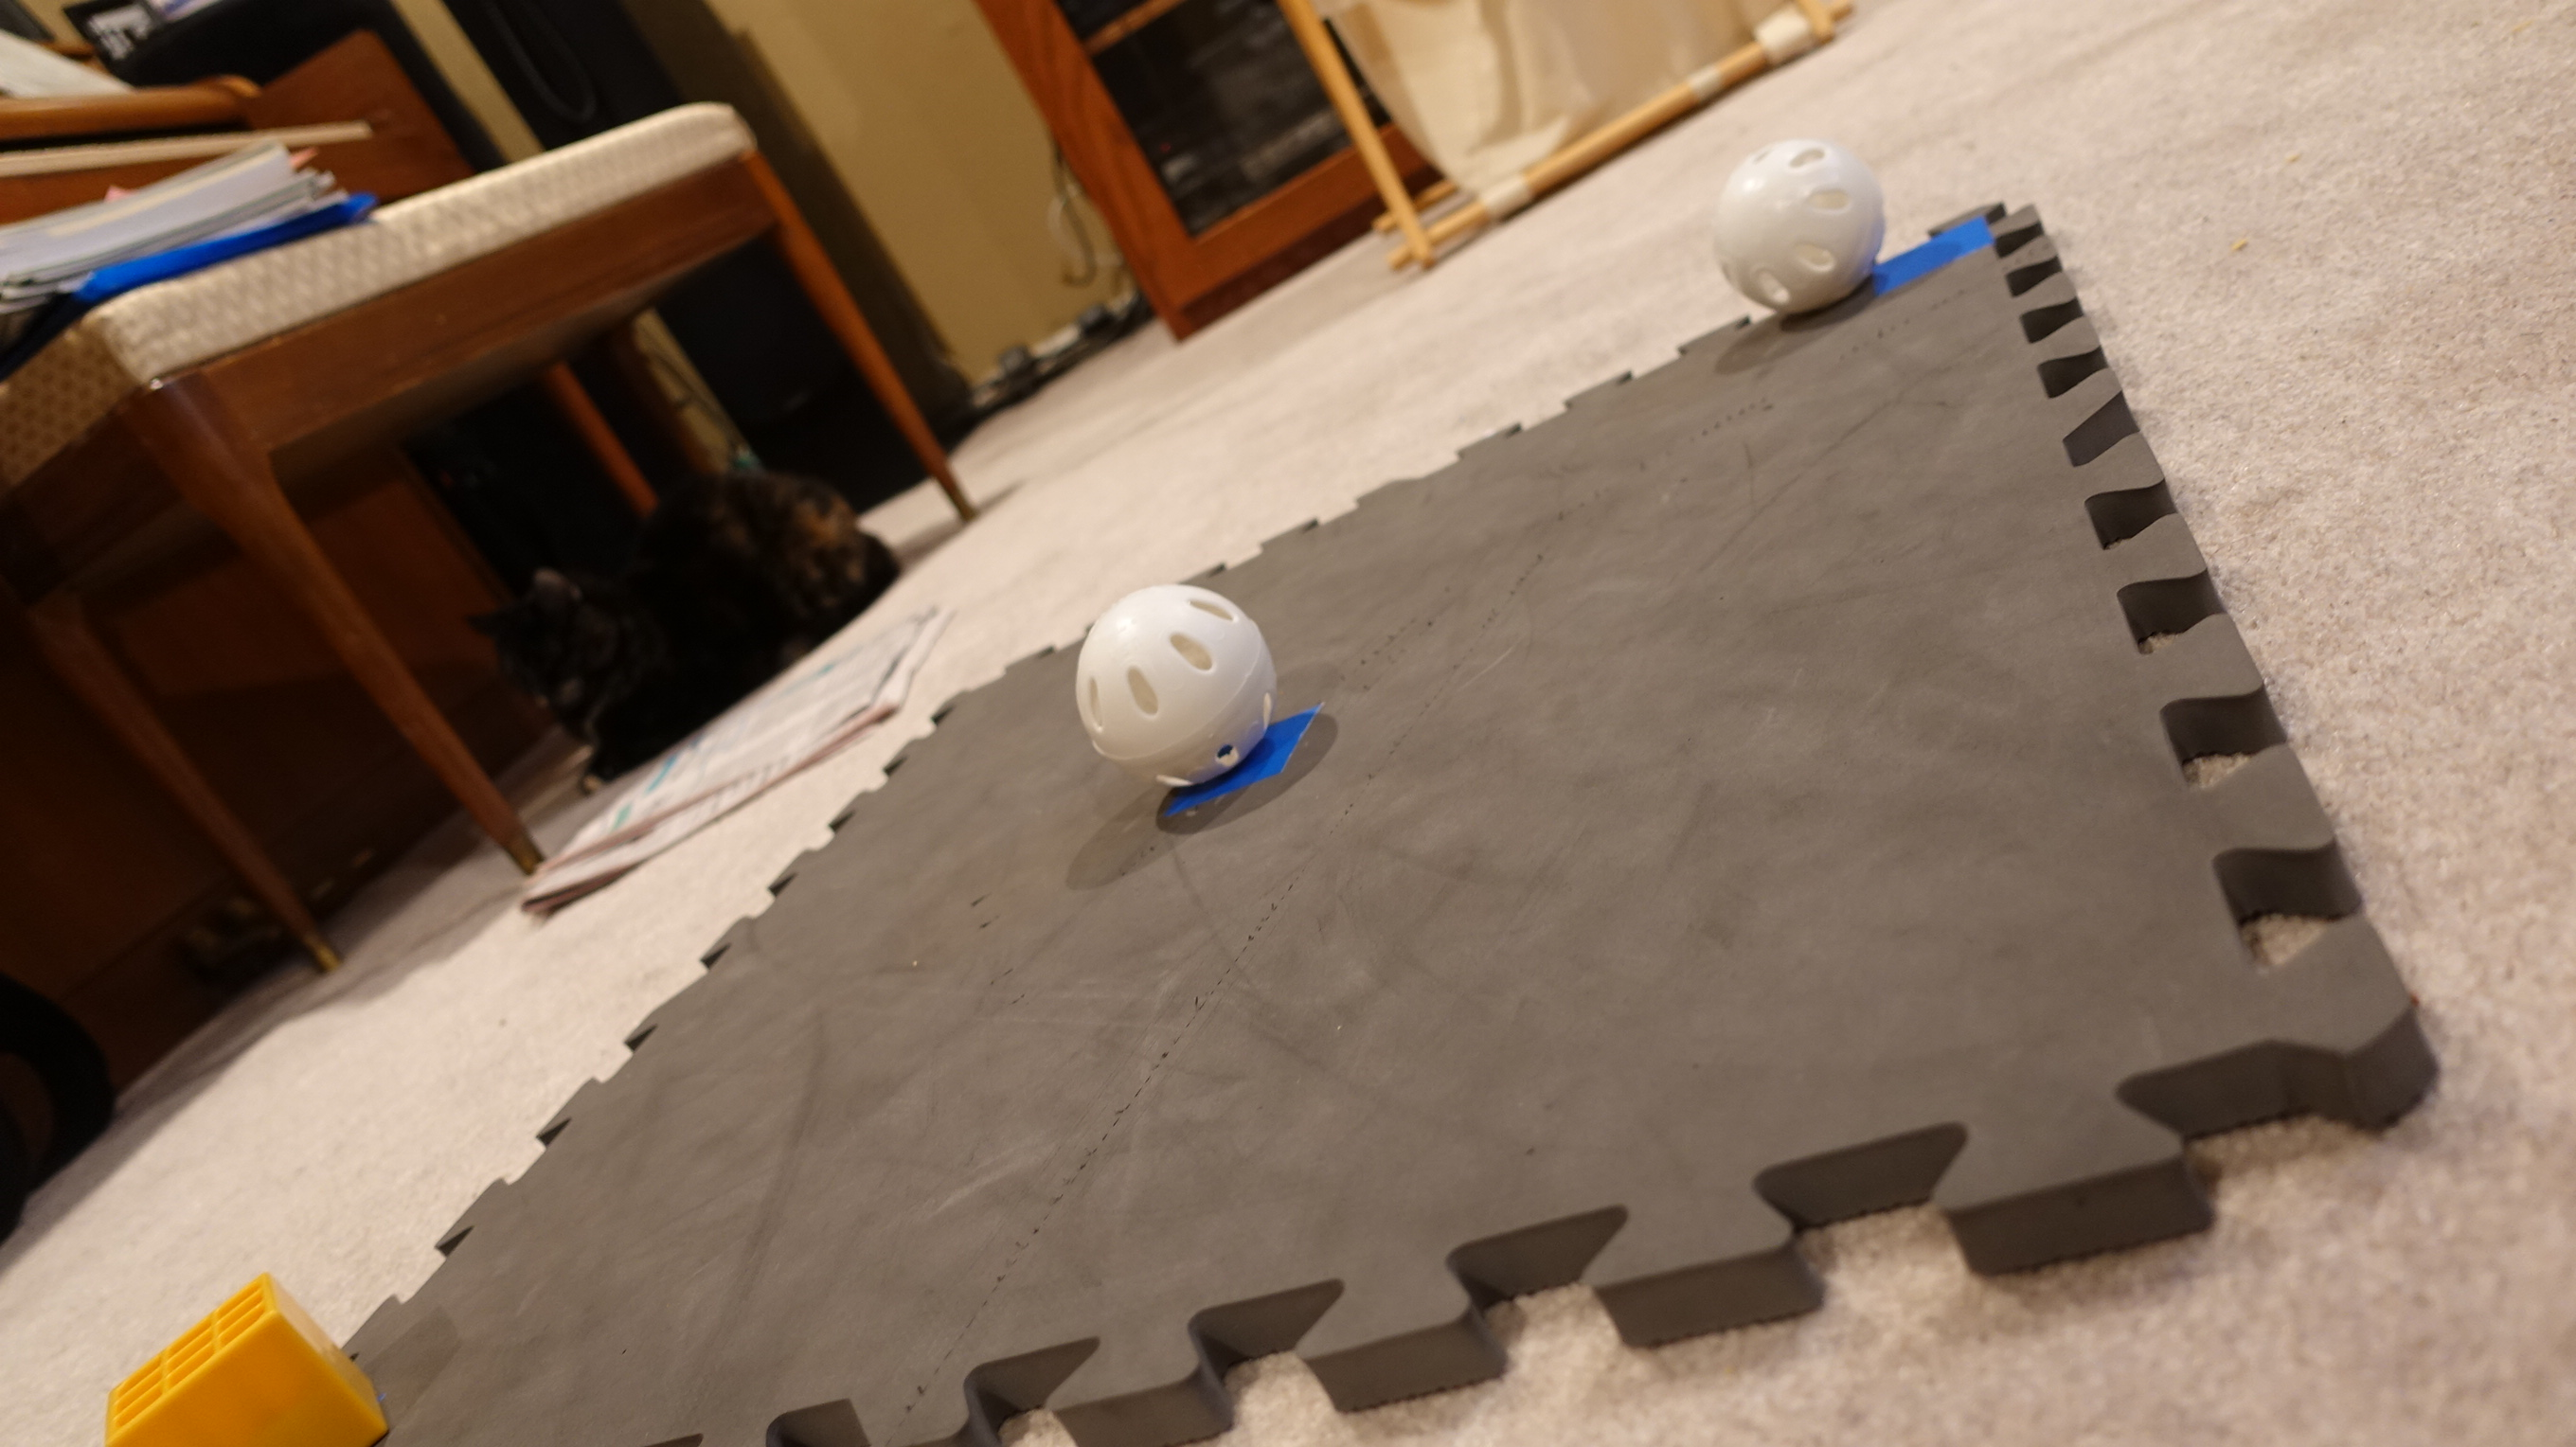gold: (88, 1275, 395, 1447)
silver: (1051, 578, 1307, 796), (1693, 140, 1891, 310)
